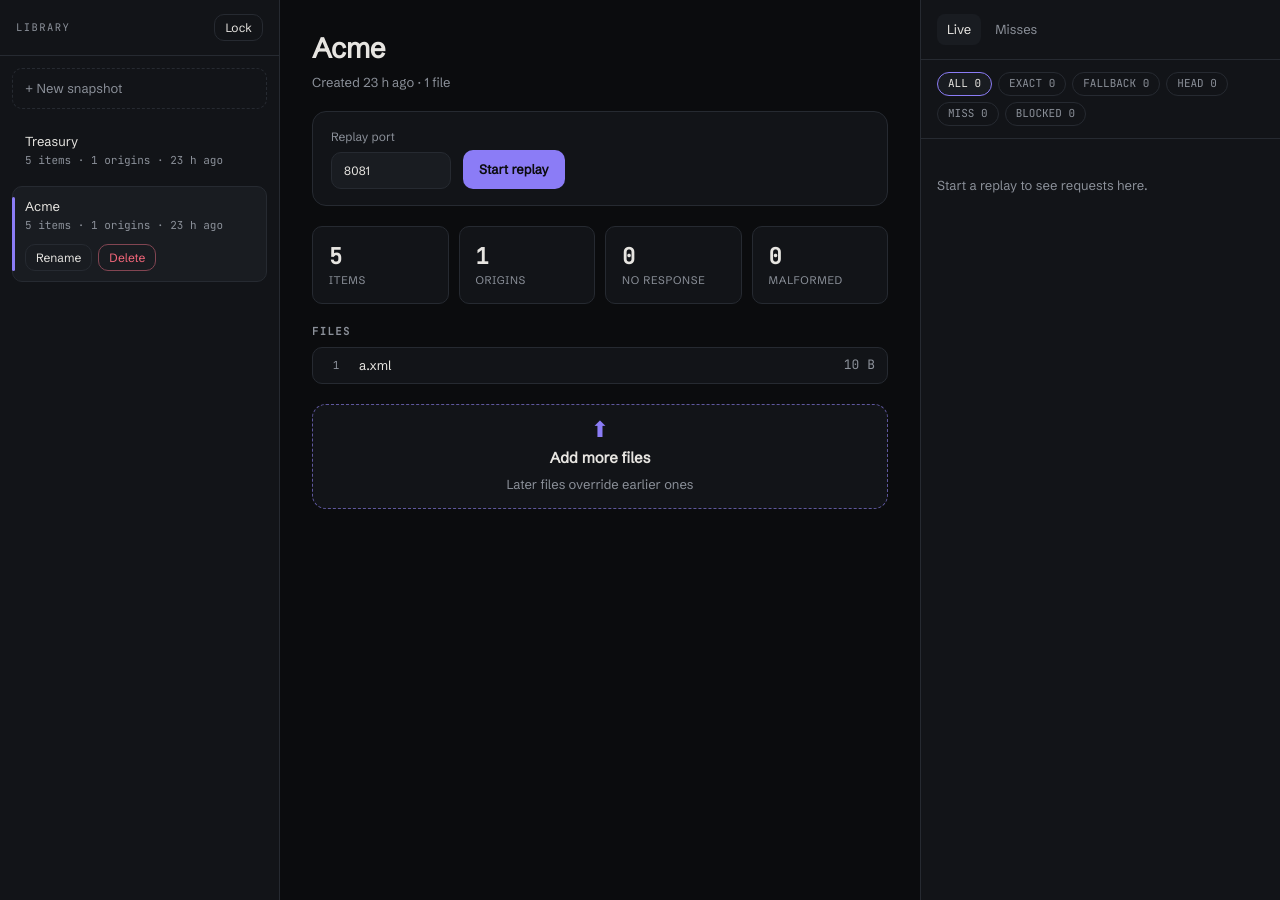
Test: deleting a snapshot removes it from the library
The width and height of the screenshot is (1280, 900).
Click the button "Acme 5 items · 1 origins · 23 h ago" at {"x": 140, "y": 215}, box [13,187,266,244]
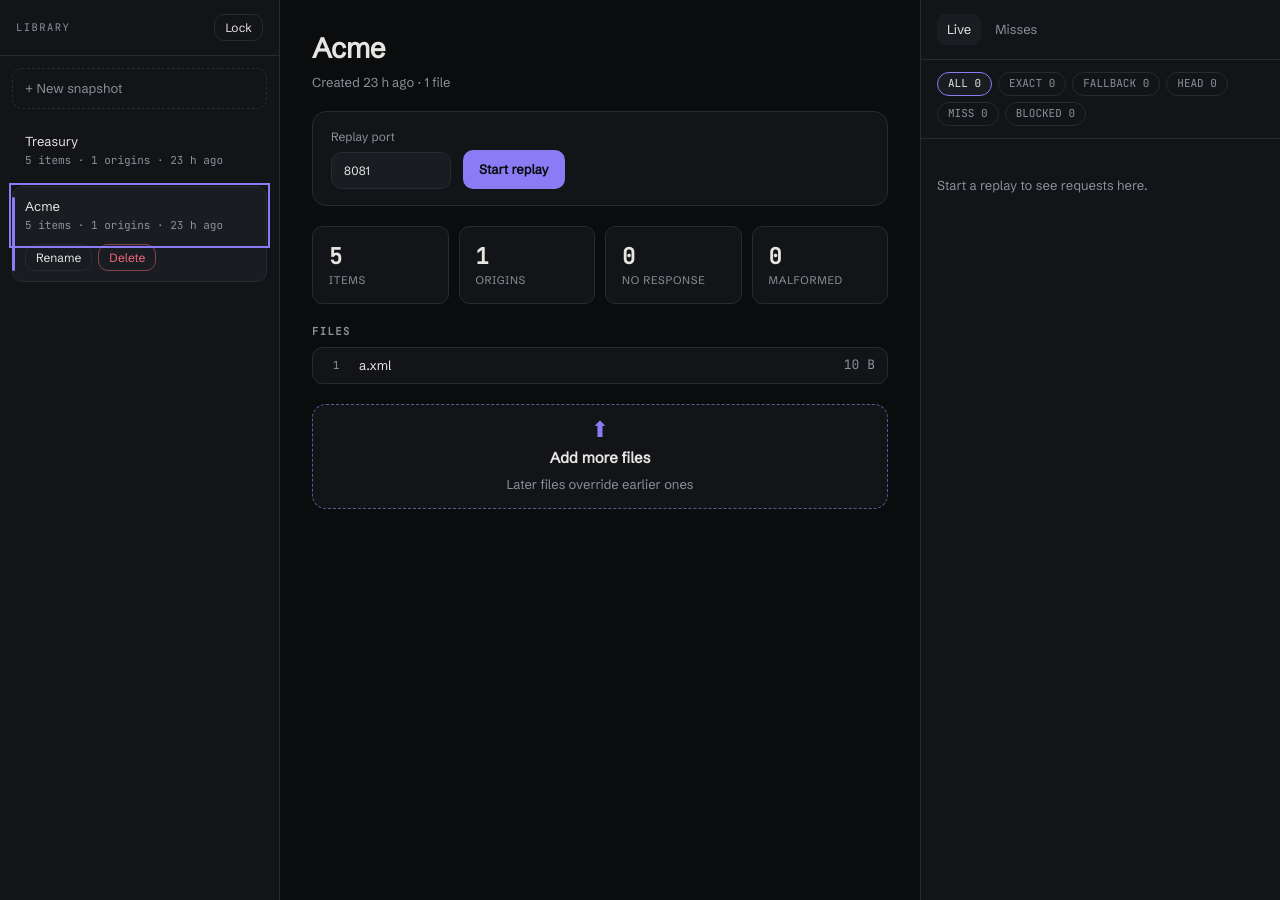
Click the button "Delete" at {"x": 127, "y": 258}, box [98,244,156,271]
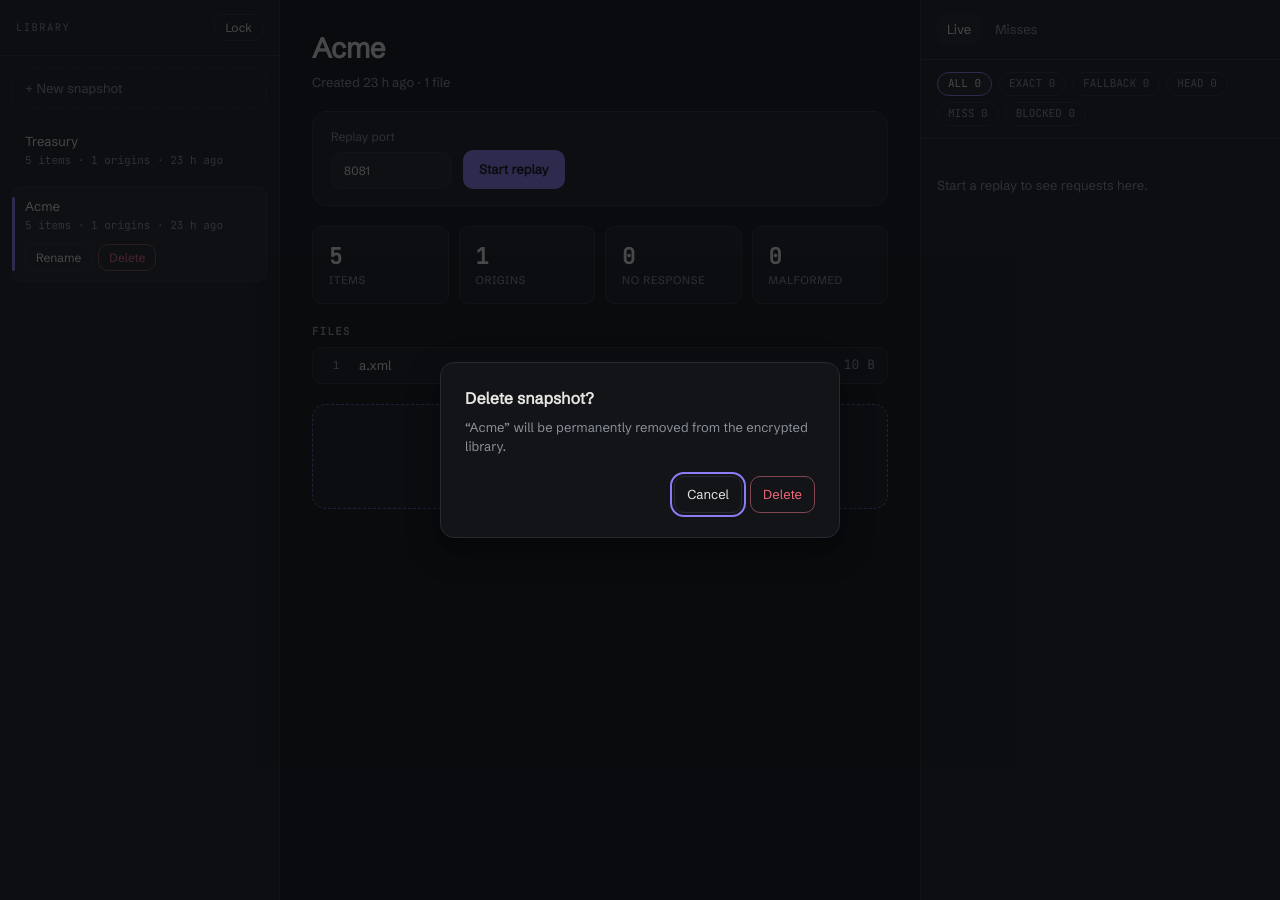
Click the button "Delete" at {"x": 782, "y": 494}, box [750,476,815,513]
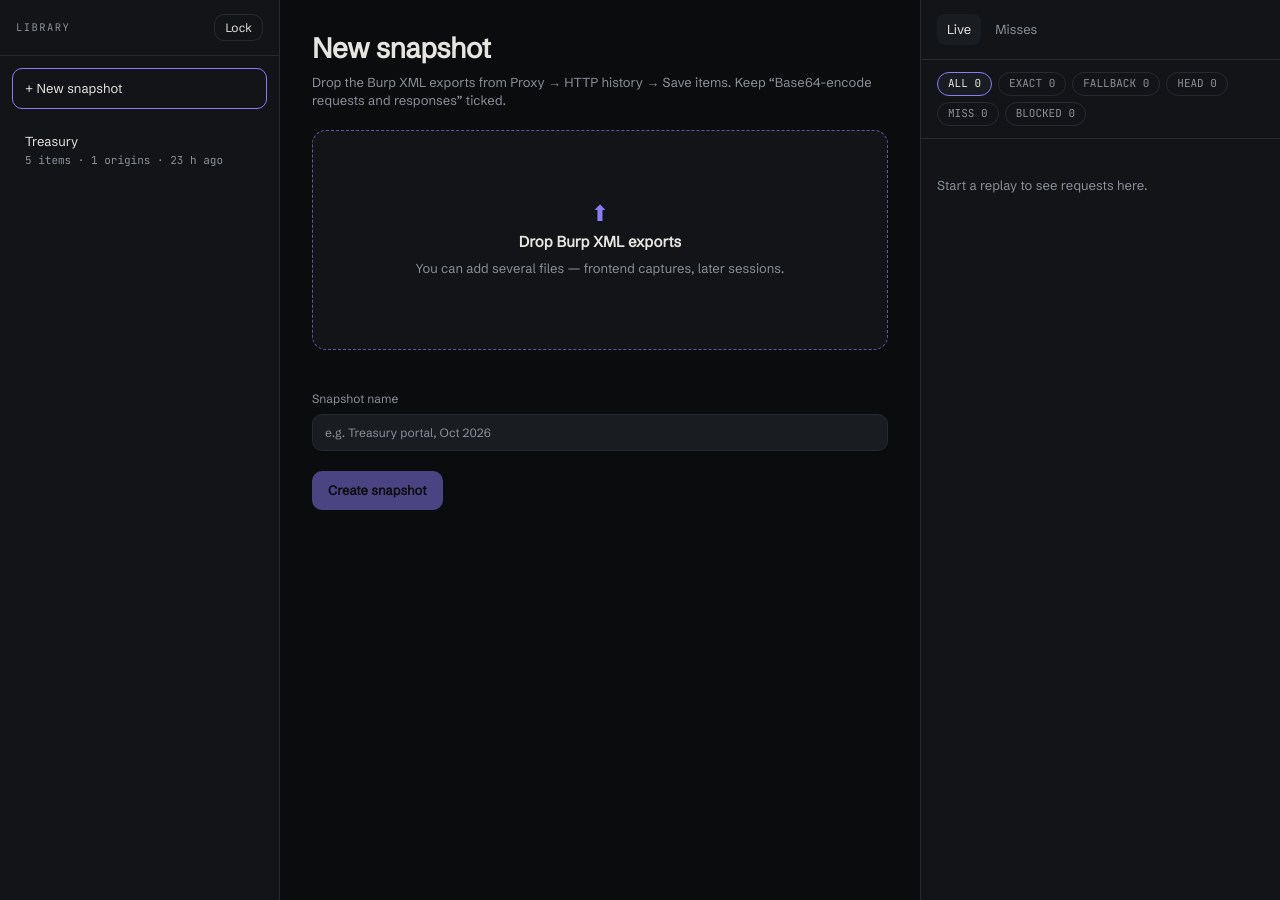
Expected: the button "Treasury 5 items · 1 origins · 23 h ago" is shown, [13,122,266,179]
Expected: the button "Acme" is gone
